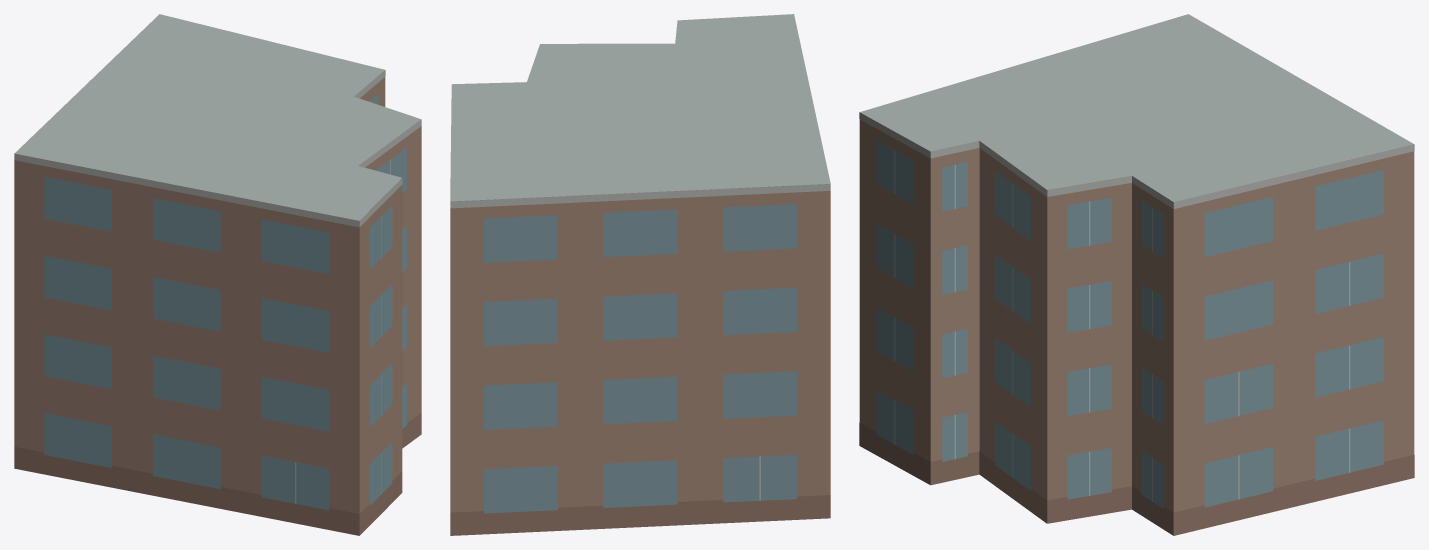
Rendered from survey-upis-32656682.glb.
3 renders of one model, left to right at view 1: azimuth 30°, elevation 25°; view 2: azimuth 150°, elevation 25°; view 3: azimuth 270°, elevation 25°, orthographic. The views are drawn at different scales.
Parts seen in each view (by area): view 1: survey-upis-32656682.tmp; view 2: survey-upis-32656682.tmp; view 3: survey-upis-32656682.tmp.
Part boxes in pixels (box(x1,y1,x2,y2)): survey-upis-32656682.tmp: box(14, 14, 421, 535); survey-upis-32656682.tmp: box(450, 14, 830, 535); survey-upis-32656682.tmp: box(859, 14, 1414, 535).
Bounding box in the file's own units: 14.16 × 11.7 × 17.64.
